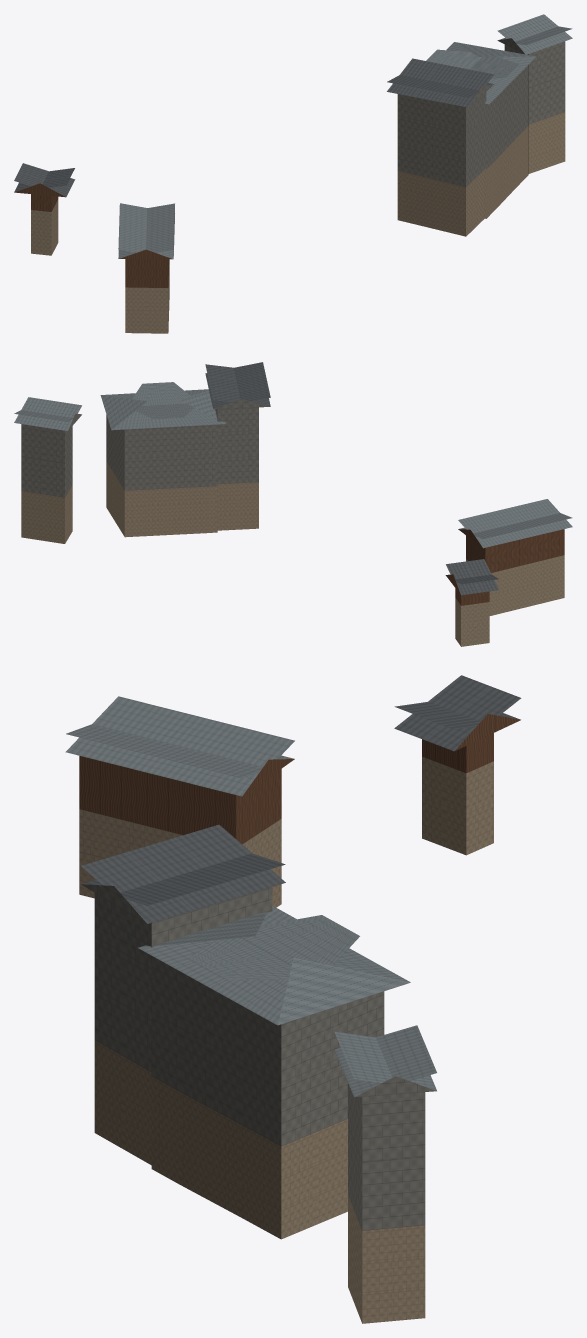
The model's file is bld_c21_45_389.gltf.
The picture shows the model from 3 angles, top to bottom: view 1: azimuth 30°, elevation 25°; view 2: azimuth 150°, elevation 25°; view 3: azimuth 270°, elevation 25°; orthographic projection. The views are drawn at different scales.
Parts seen in each view (by area): view 1: bld_c21_45_389; view 2: bld_c21_45_389; view 3: bld_c21_45_389.
Part boxes in pixels (x1=…): bld_c21_45_389: x1=14, y1=14, x2=572, y2=333; bld_c21_45_389: x1=14, y1=362, x2=572, y2=646; bld_c21_45_389: x1=65, y1=675, x2=521, y2=1323.
Bounding box in the file's own units: 57.22 × 16.7 × 22.7.
Materials: 7 (7 with a texture image).
